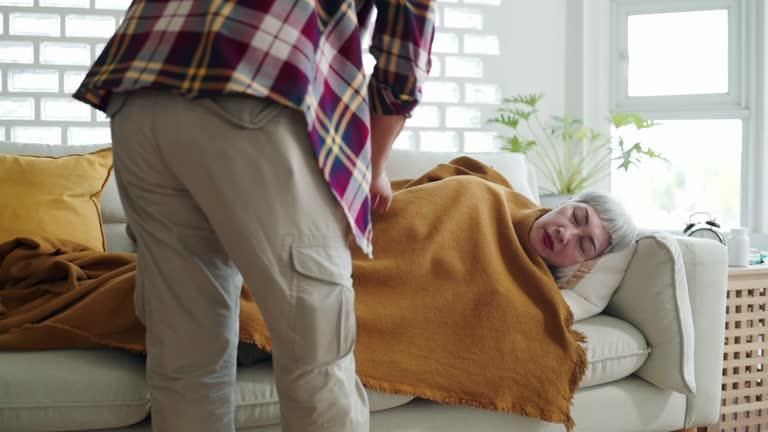blanket: (0, 156, 588, 432)
long sleeve shirt: (70, 0, 437, 260)
trousers: (105, 90, 372, 432)
